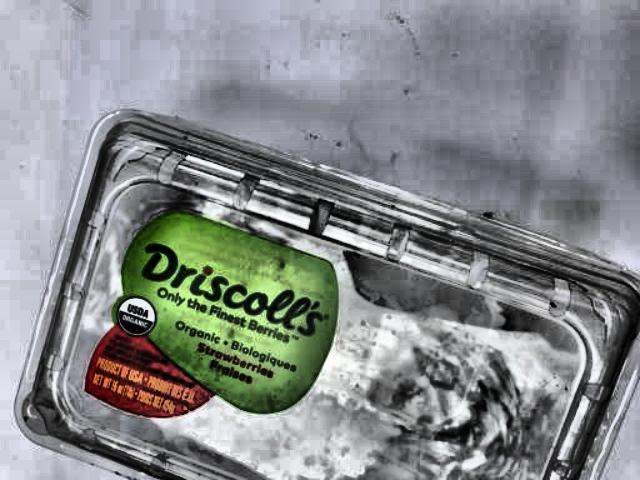Plastic: (0, 100, 640, 480)
